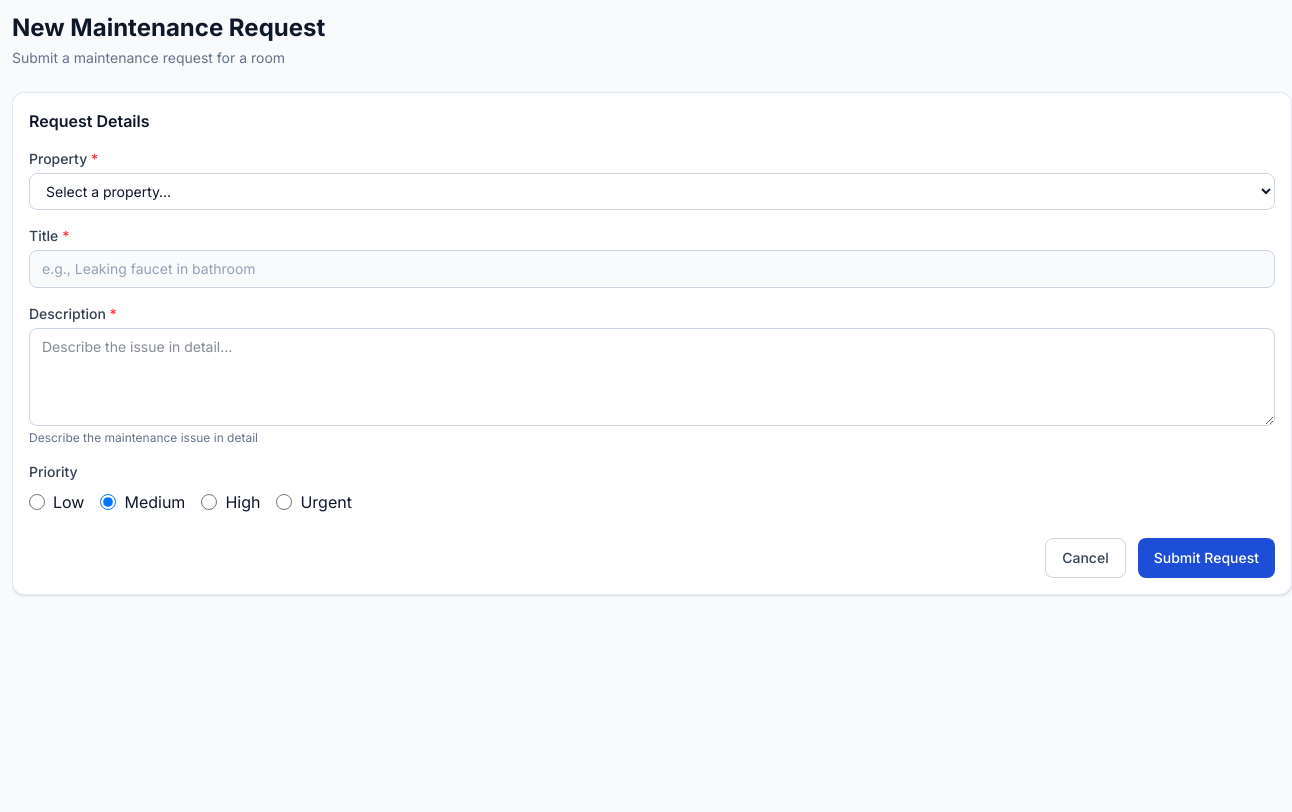
Test case: MaintenanceFormPage › form validation › shows error toast when only property and room are selected (no title/description)
The image size is (1292, 812).
Select "Sunset Tower" in the dropdown labelled "Property *". click: (652, 192)
box: 29,173 -> 1275,210
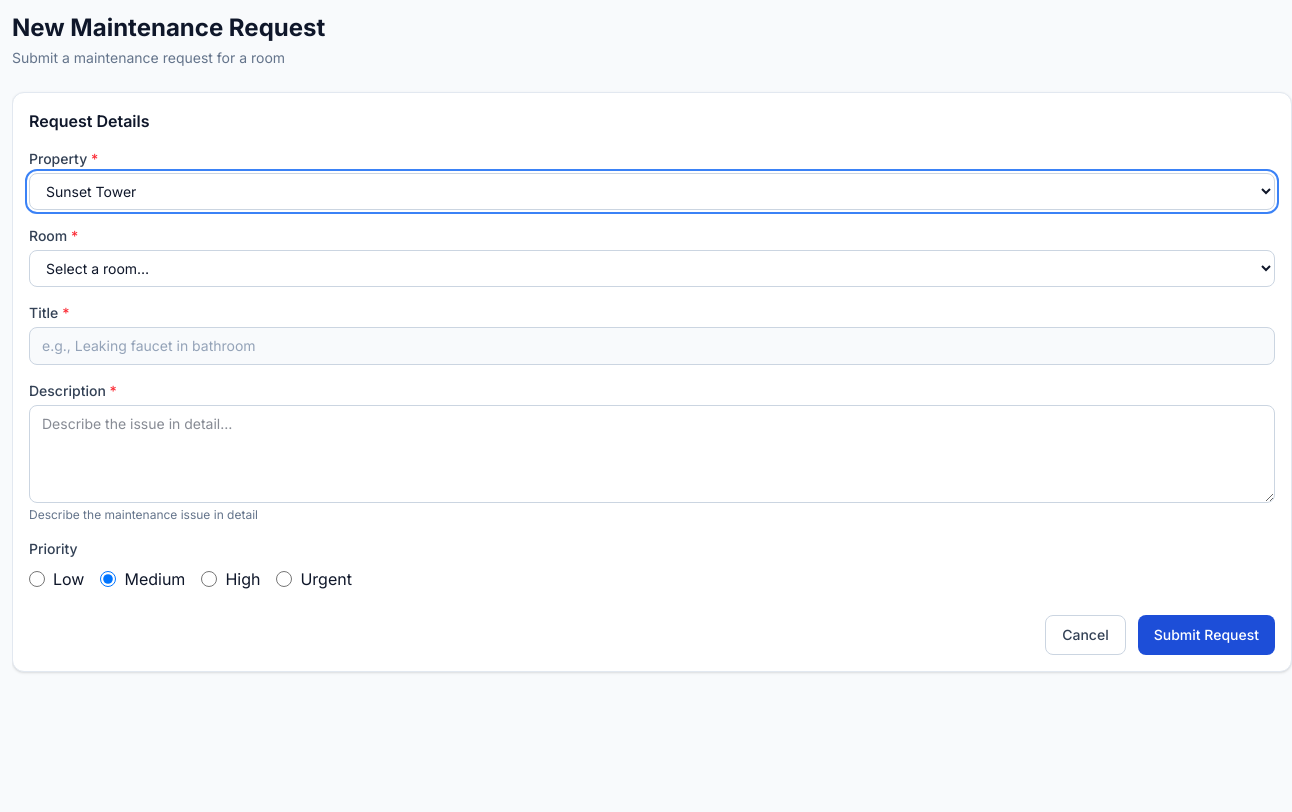
Check: the dropdown labelled "Room *" is shown
Select "101 (studio) - available" in the dropdown labelled "Room *". click: (652, 268)
box: 29,250 -> 1275,287
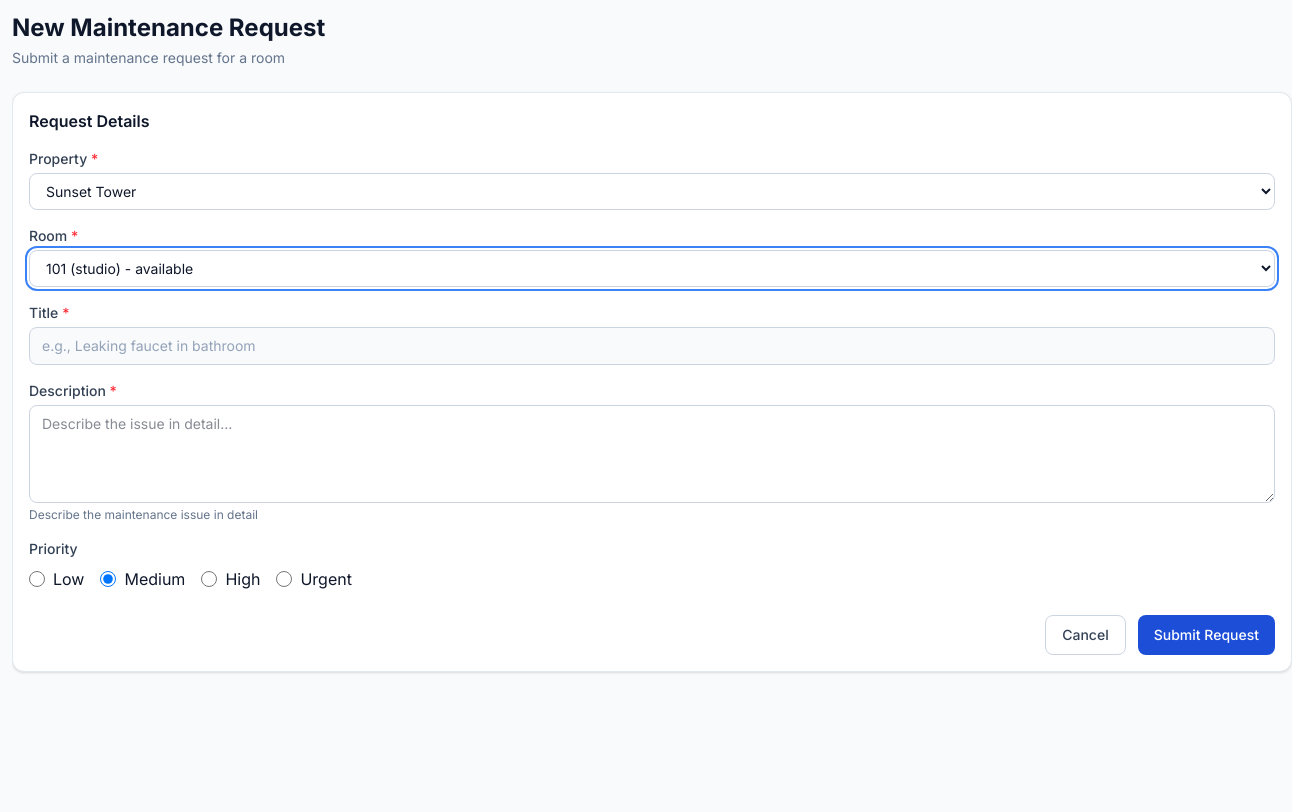
Submit the form
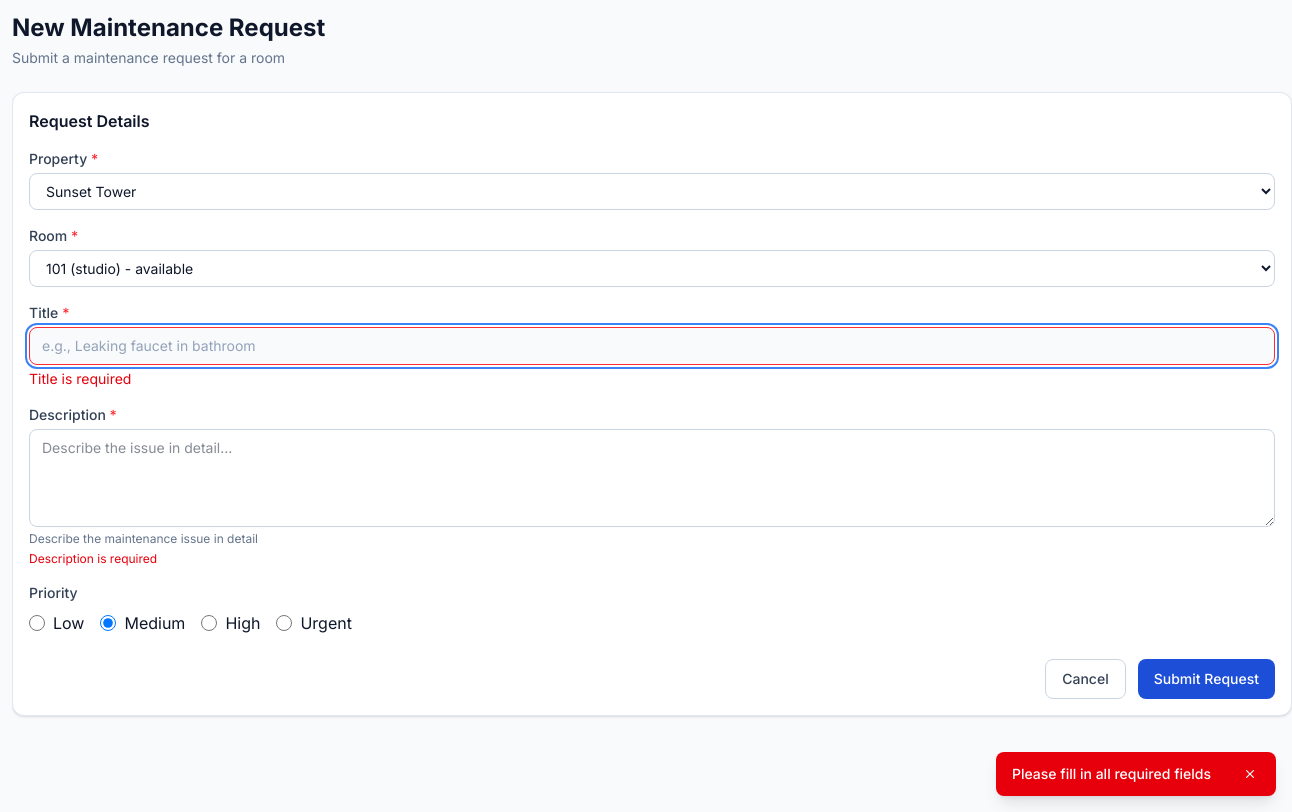
Check: the text "Please fill in all required fields" is shown, box 1012,764 -> 1228,784
